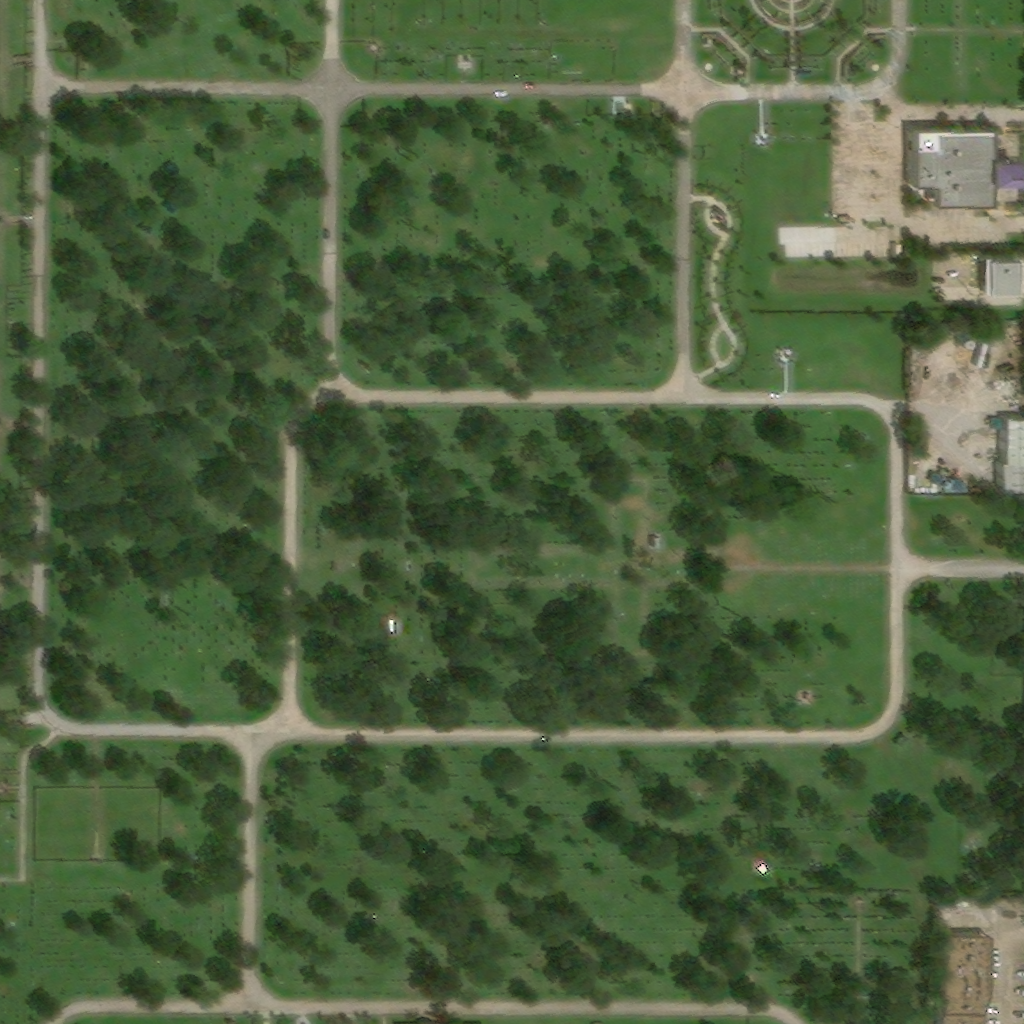no_damage: (911, 123, 1019, 208), (940, 930, 990, 1023), (991, 412, 1022, 487), (983, 255, 1021, 297), (929, 471, 970, 493)
unclassified: (825, 234, 841, 242)
